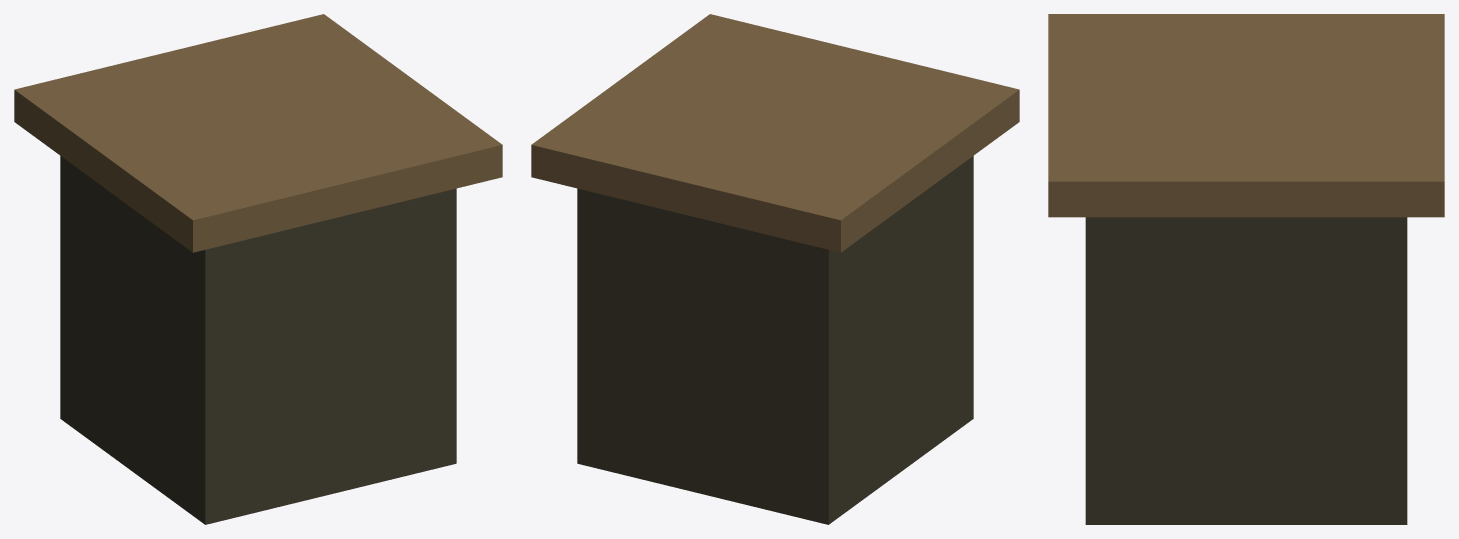
The model's file is delivery_point.glb.
3 views of the same model, side by side, from view 1: azimuth 30°, elevation 25°; view 2: azimuth 150°, elevation 25°; view 3: azimuth 270°, elevation 25° (orthographic). The views are drawn at different scales.
Visible parts, largest first — view 1: Cube; view 2: Cube; view 3: Cube.
Part boxes in pixels (left/top/right/bottom): Cube: left=14, top=14, right=502, bottom=524; Cube: left=531, top=14, right=1019, bottom=524; Cube: left=1048, top=14, right=1444, bottom=524.
Size of the model in its own units: 1 by 1 by 1.
1 material, 1 textured.
